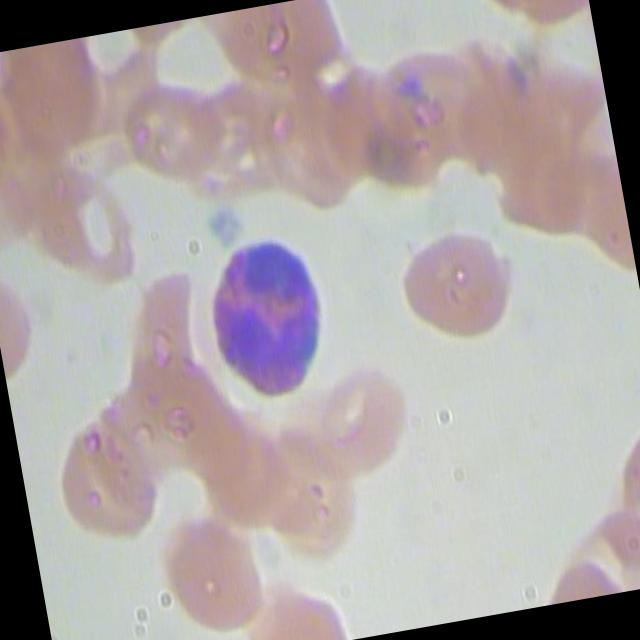RBC: (245, 410, 380, 571), (97, 255, 232, 416), (16, 155, 156, 295), (288, 343, 427, 483), (147, 499, 286, 639), (40, 403, 179, 543), (392, 219, 530, 359), (250, 64, 372, 218), (362, 34, 494, 174), (114, 62, 228, 192), (0, 35, 109, 158), (548, 498, 640, 601)
WBC: (194, 229, 340, 414)
